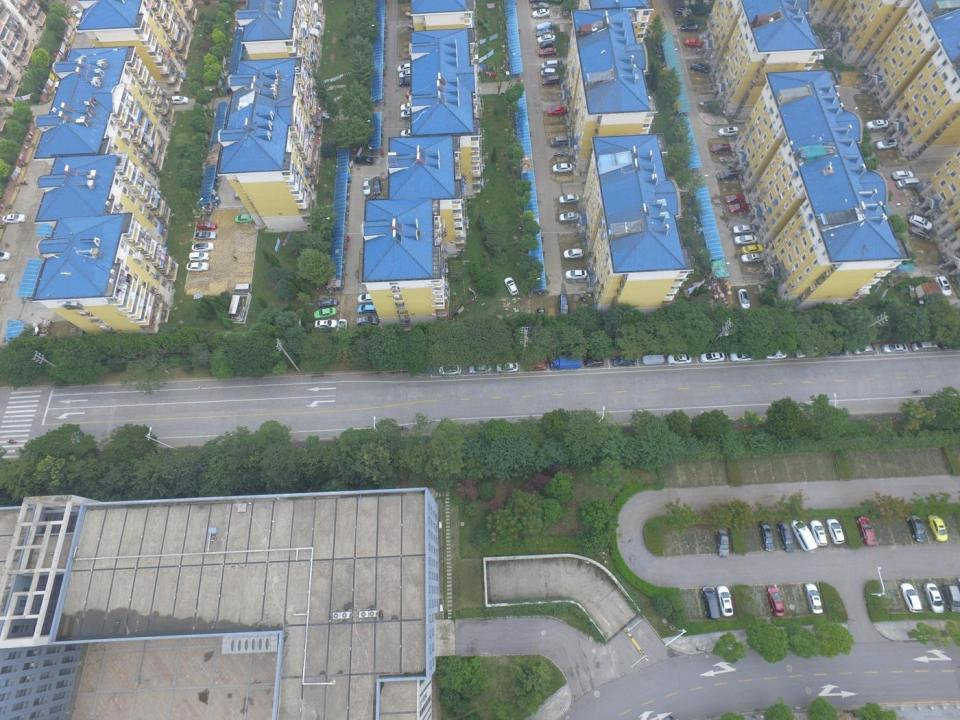car: (922, 583, 945, 614), (900, 583, 922, 612), (906, 513, 927, 542), (766, 586, 785, 617), (927, 514, 948, 542), (856, 516, 876, 545), (777, 523, 796, 552), (804, 584, 822, 614), (758, 522, 776, 551), (809, 520, 828, 546), (826, 518, 845, 544), (717, 586, 733, 616), (909, 214, 933, 232), (933, 276, 952, 297), (716, 526, 729, 556), (910, 225, 930, 241), (313, 307, 337, 320), (699, 351, 725, 363), (503, 277, 519, 296), (794, 346, 819, 358), (881, 343, 908, 354), (737, 289, 751, 310), (729, 351, 755, 362), (315, 318, 338, 330), (2, 213, 27, 224), (612, 356, 637, 367), (852, 344, 877, 355), (876, 138, 897, 151), (740, 244, 764, 255), (641, 354, 665, 365), (666, 354, 692, 364), (186, 261, 209, 272), (732, 224, 755, 235), (734, 234, 757, 245), (891, 170, 914, 181), (552, 162, 573, 174), (717, 169, 738, 181), (356, 316, 378, 327), (356, 304, 378, 315), (558, 294, 569, 316), (565, 269, 587, 280), (765, 349, 787, 360), (191, 242, 215, 252), (740, 253, 764, 263), (864, 120, 888, 130), (357, 293, 378, 304), (399, 76, 420, 87), (563, 248, 584, 259), (824, 345, 845, 356), (194, 231, 217, 241), (336, 319, 348, 338), (188, 252, 210, 262), (318, 298, 340, 308), (559, 212, 579, 223), (718, 126, 738, 137), (710, 143, 730, 154), (468, 364, 490, 374), (940, 339, 960, 350), (438, 365, 462, 374), (70, 5, 84, 20), (398, 62, 417, 73), (537, 34, 556, 45), (690, 62, 709, 73), (675, 5, 692, 17), (559, 194, 579, 204), (725, 194, 745, 204), (526, 361, 546, 371), (532, 8, 550, 19), (496, 363, 518, 372), (400, 102, 419, 112), (547, 106, 566, 116), (728, 204, 749, 213), (234, 214, 254, 223), (197, 222, 217, 231), (234, 190, 252, 200), (400, 109, 418, 119), (539, 47, 557, 57), (684, 38, 702, 48), (584, 358, 604, 367), (831, 69, 842, 85), (354, 156, 373, 165), (399, 70, 418, 79), (362, 178, 371, 196), (406, 89, 424, 98), (536, 29, 554, 38), (536, 22, 554, 31), (172, 95, 188, 105), (400, 129, 420, 137), (532, 1, 549, 10), (74, 19, 84, 34), (373, 177, 381, 195), (681, 24, 699, 32), (314, 112, 330, 121), (537, 308, 546, 323), (54, 80, 63, 94), (0, 251, 11, 261), (541, 41, 554, 49), (64, 49, 72, 61), (811, 54, 824, 61)
truck: (550, 355, 582, 370), (412, 365, 433, 375)
van: (791, 519, 818, 551), (701, 586, 720, 619), (942, 584, 960, 613), (911, 341, 937, 352), (895, 178, 919, 189), (233, 283, 253, 294), (550, 136, 568, 147), (542, 75, 559, 86), (541, 60, 558, 70), (540, 68, 556, 77)
